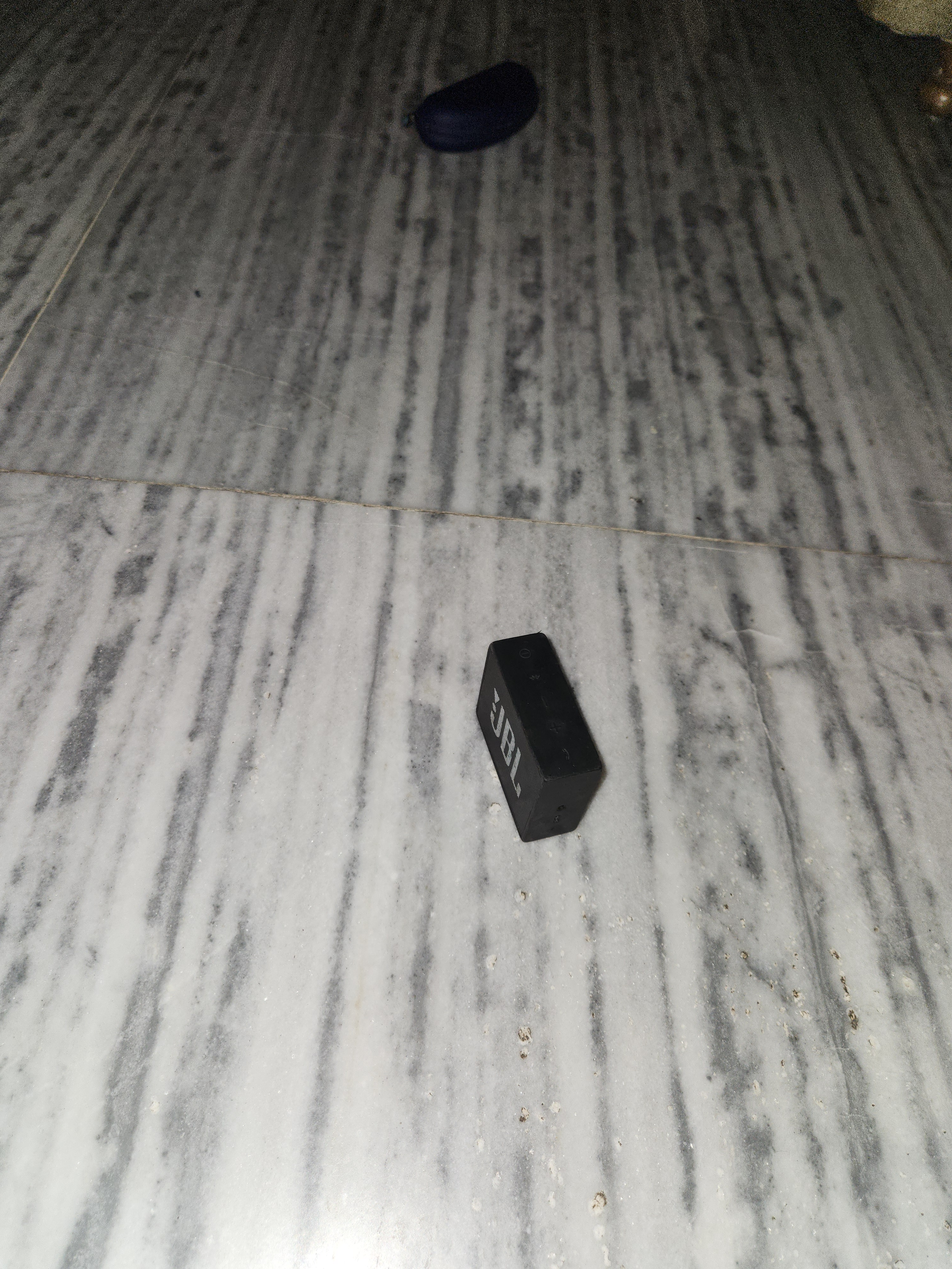case: (396, 55, 545, 156)
speaker: (474, 630, 610, 844)
